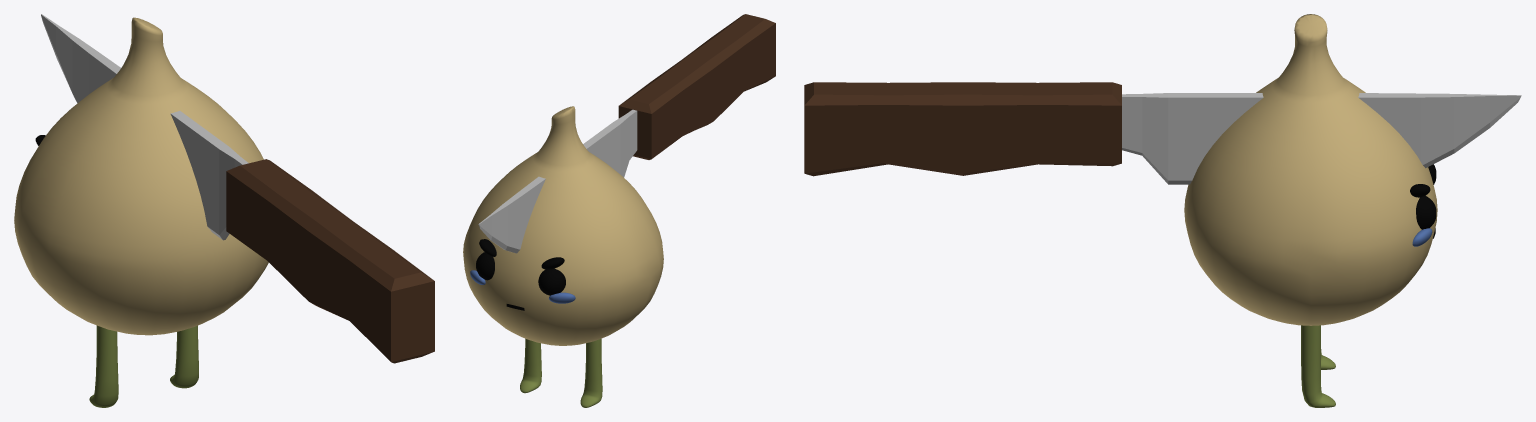
File: OnionSIDE.fbx
3 renders of one model, left to right at view 1: azimuth 30°, elevation 25°; view 2: azimuth 150°, elevation 25°; view 3: azimuth 270°, elevation 25°, orthographic. The views are drawn at different scales.
Parts seen in each view (by area): view 1: Knife; view 2: Knife; view 3: Knife.
Part boxes in pixels (x1,y1,x2,y2): Knife: (14,14,434,407); Knife: (463,14,775,407); Knife: (804,14,1521,407).
Bounding box in the file's own units: 196 × 307 × 543.
